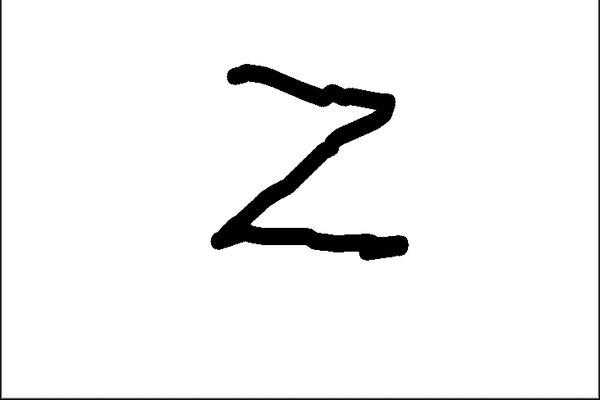Z: (204, 52, 414, 262)
